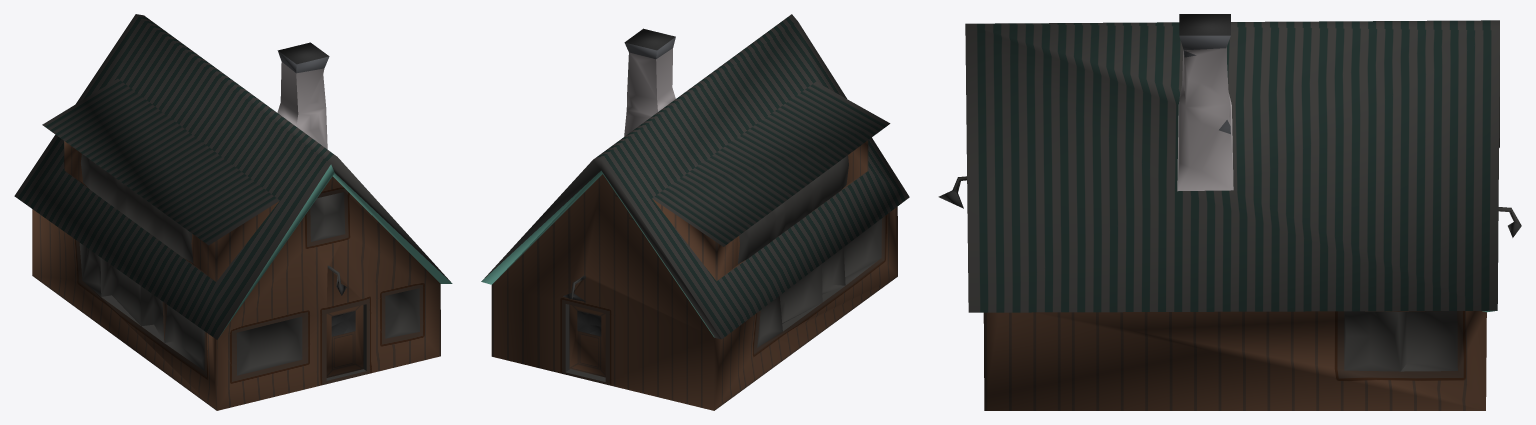
File: Cabin0.3.glb
The picture shows the model from 3 angles, left to right: view 1: azimuth 30°, elevation 25°; view 2: azimuth 150°, elevation 25°; view 3: azimuth 270°, elevation 25°; orthographic projection. The views are drawn at different scales.
Visible parts, largest first — view 1: Cabin.001; view 2: Cabin.001; view 3: Cabin.001.
Boxes of the visible parts, left/top/right/bottom form: Cabin.001: left=14, top=14, right=452, bottom=410; Cabin.001: left=481, top=14, right=909, bottom=410; Cabin.001: left=938, top=14, right=1521, bottom=410.
Size of the model in its own units: 0.1196 by 0.1208 by 0.1832.
1 material, 1 textured.
